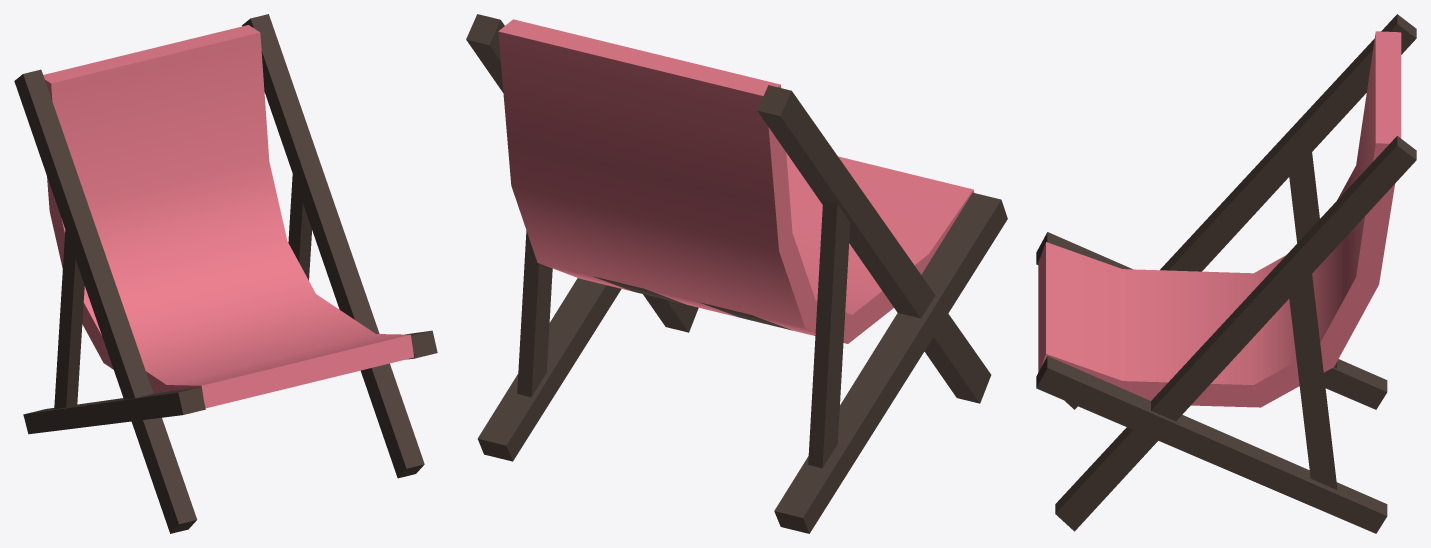
3 renders of one model, left to right at view 1: azimuth 30°, elevation 25°; view 2: azimuth 150°, elevation 25°; view 3: azimuth 270°, elevation 25°, orthographic. The views are drawn at different scales.
Parts seen in each view (by area): view 1: sunbed_006; view 2: sunbed_006; view 3: sunbed_006.
Part boxes in pixels (left/top/right/bottom): sunbed_006: left=14, top=14, right=437, bottom=533; sunbed_006: left=466, top=14, right=1007, bottom=533; sunbed_006: left=1036, top=14, right=1416, bottom=533.
Size of the model in its own units: 0.8515 by 1.13 by 1.01.
